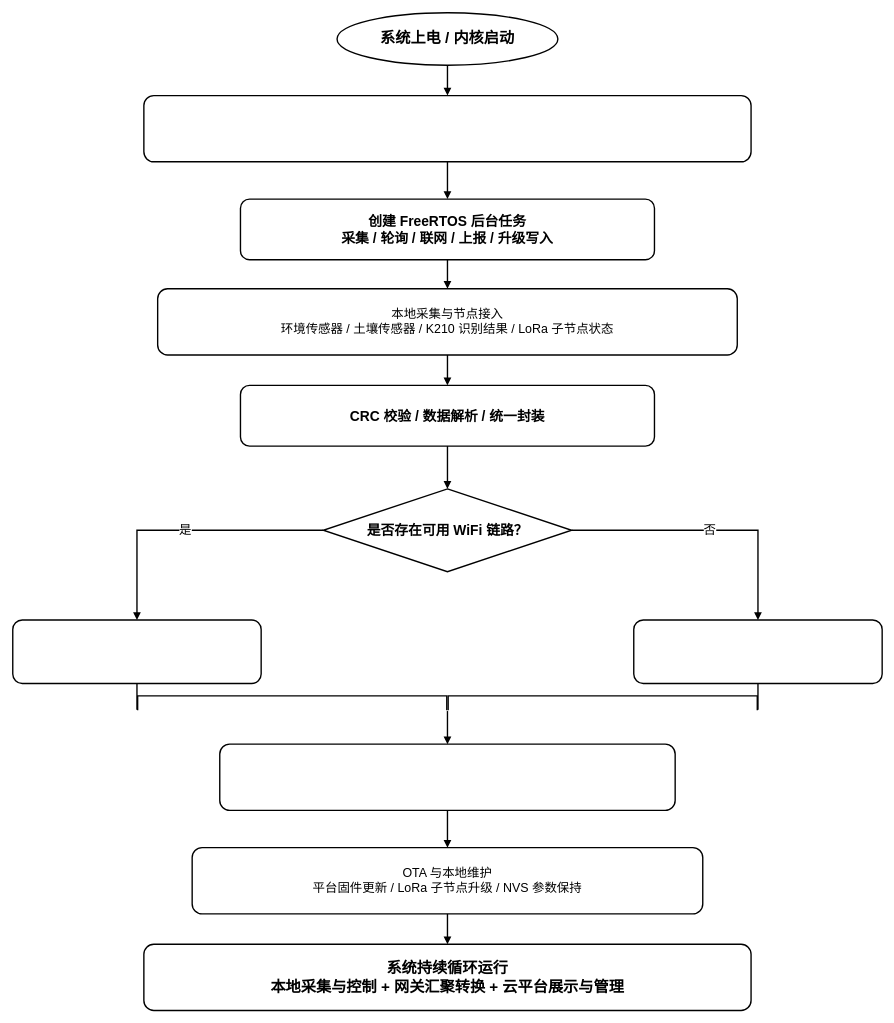
The diagram is 894 pixels wide and 1023 high, and some of its shapes have lost their labels. The centre of each missing label's shape, as x and y in pixels:
Cat1 备份链路接入 WiFi 不可用时建立广域联网: point 758,651
MQTT 平台交互 数据上报 / 远程监控 / 指令与升级任务接收: point 447,777
WiFi 主链路接入 AP 配网完成后连接云平台: point 137,651
基础外设初始化 LED / 按键 / NVS / LoRa / Cat1 / MQTT / 传感器接口: point 447,128
